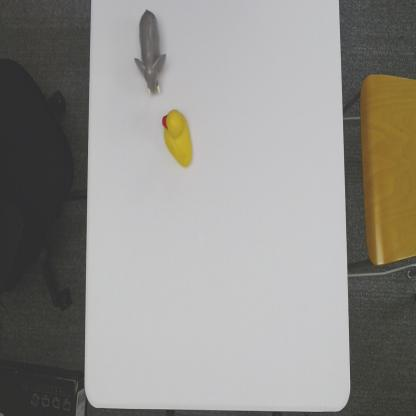Duck: (161, 107, 194, 170)
Elephant: (133, 6, 168, 96)
